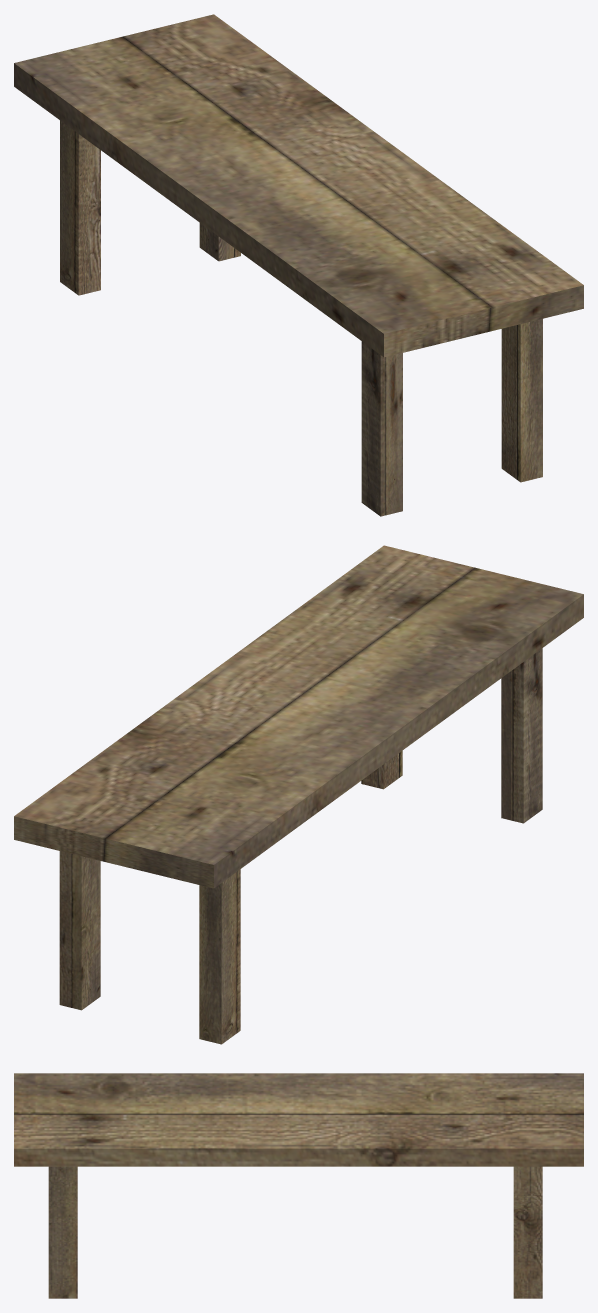
Rendered from bench.dae.
3 renders of one model, top to bottom at view 1: azimuth 30°, elevation 25°; view 2: azimuth 150°, elevation 25°; view 3: azimuth 270°, elevation 25°, orthographic. The views are drawn at different scales.
Visible parts, largest first — view 1: bench-Pivot; view 2: bench-Pivot; view 3: bench-Pivot.
Part boxes in pixels (x1=…): bench-Pivot: x1=14, y1=14, x2=583, y2=516; bench-Pivot: x1=14, y1=545, x2=583, y2=1044; bench-Pivot: x1=14, y1=1073, x2=583, y2=1298.
Size of the model in its own units: 1.15 by 3.68 by 1.12.
